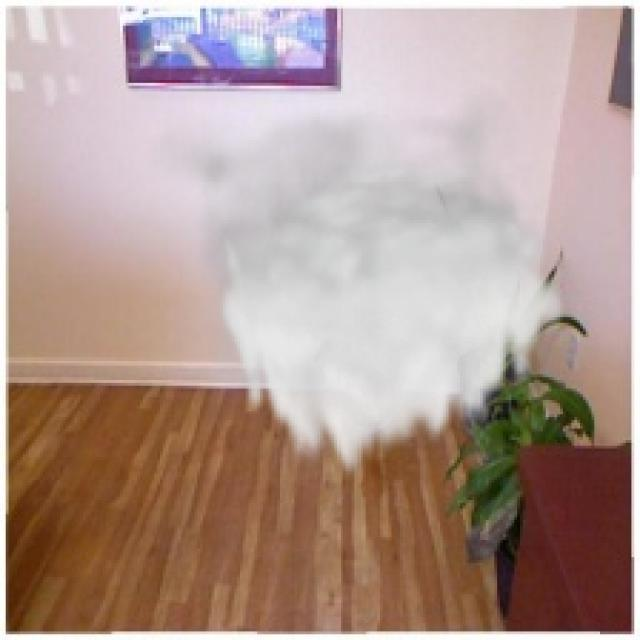Smoke: (142, 80, 568, 486)
